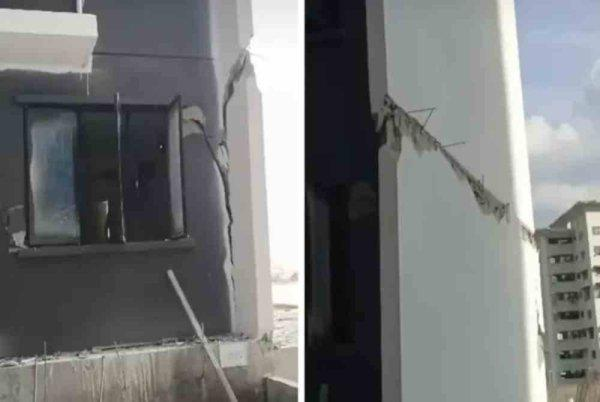Crack: (369, 85, 545, 266), (183, 45, 261, 299)
